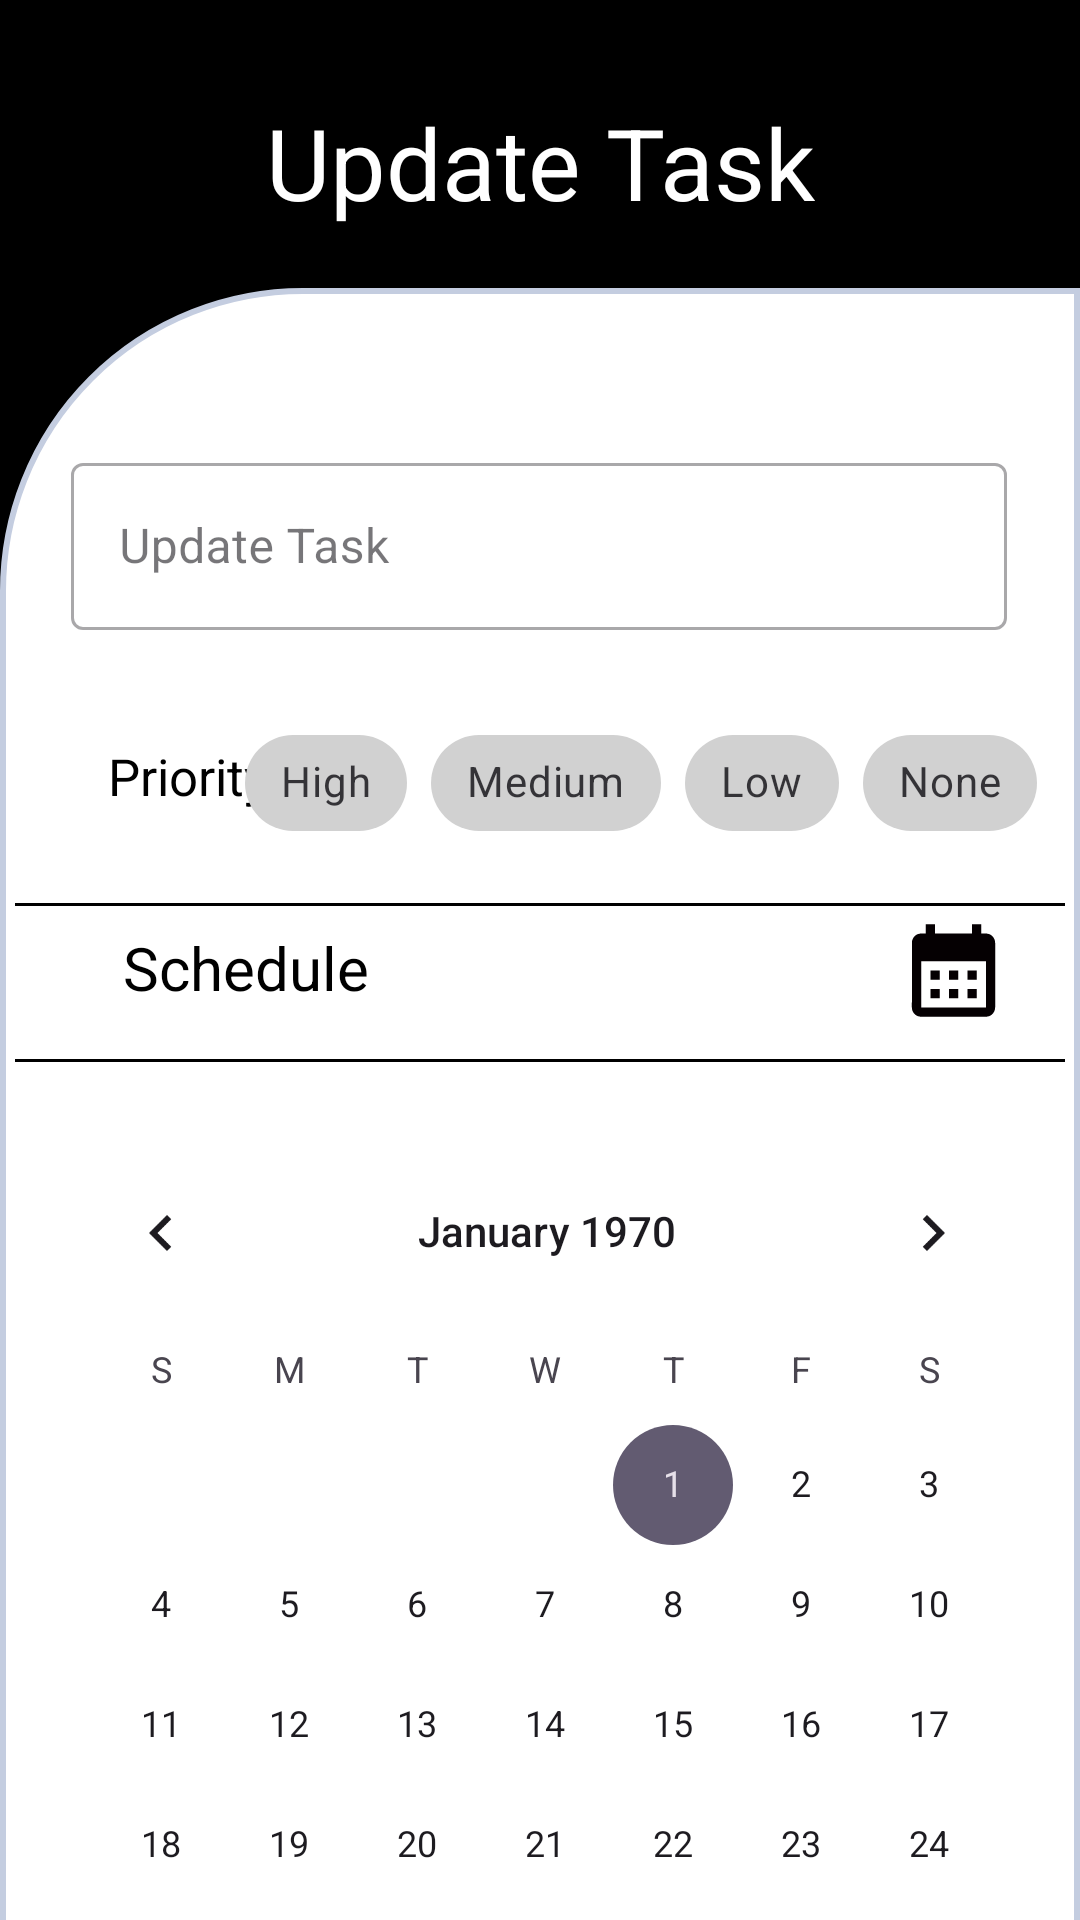

Where to tap for icons on this 1080 x 1920 app screen, as (x=x, y=y):
calendar: (x=953, y=970)
